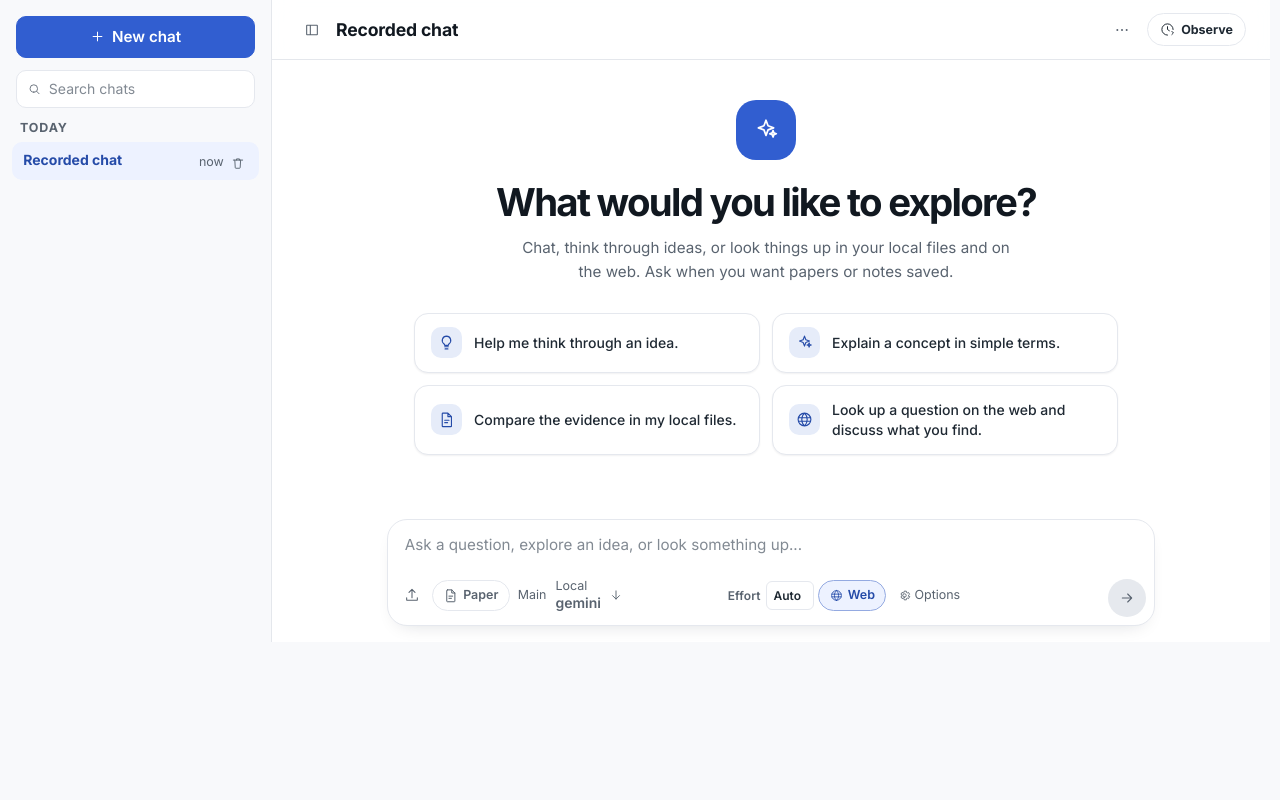
chat transcript detail › makes suggestions editable instead of immediately submitting a canned workflow
Click the button with class "suggestion" showing "Help me think through an idea." at (587, 343), box [414,313,760,373]
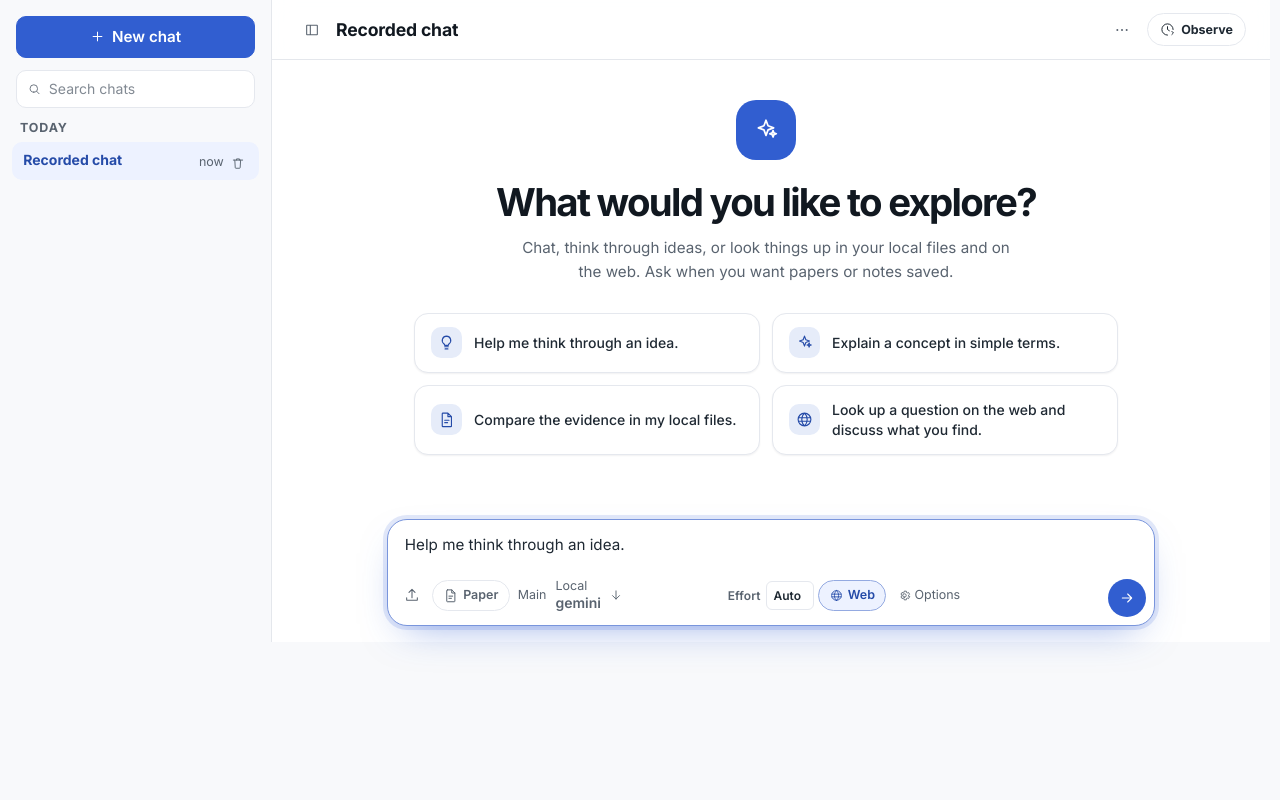
Check: the text box named "Message" holds "Help me think through an idea.", box [396,528,1146,570]
